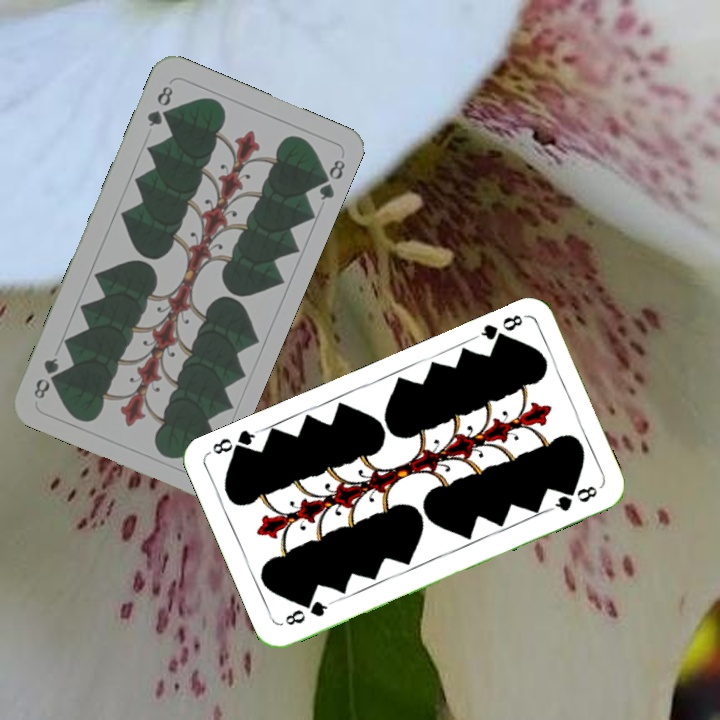G8: (471, 310, 527, 348), (281, 597, 335, 628), (143, 81, 176, 130)
